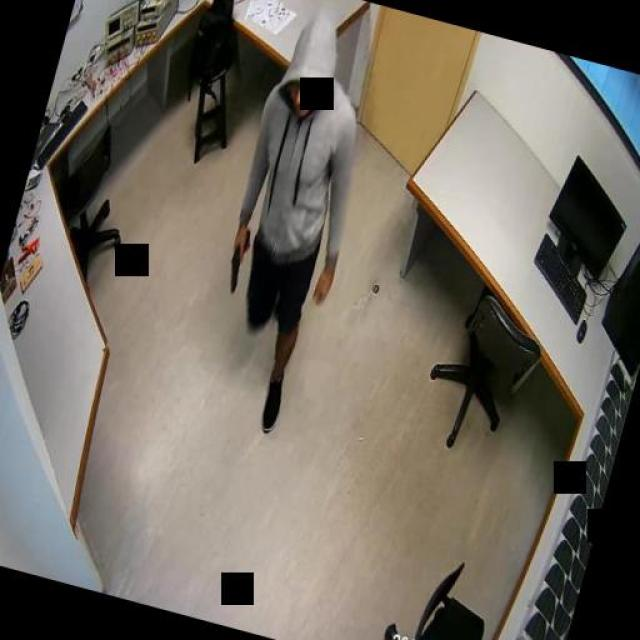gun: (218, 224, 252, 294)
